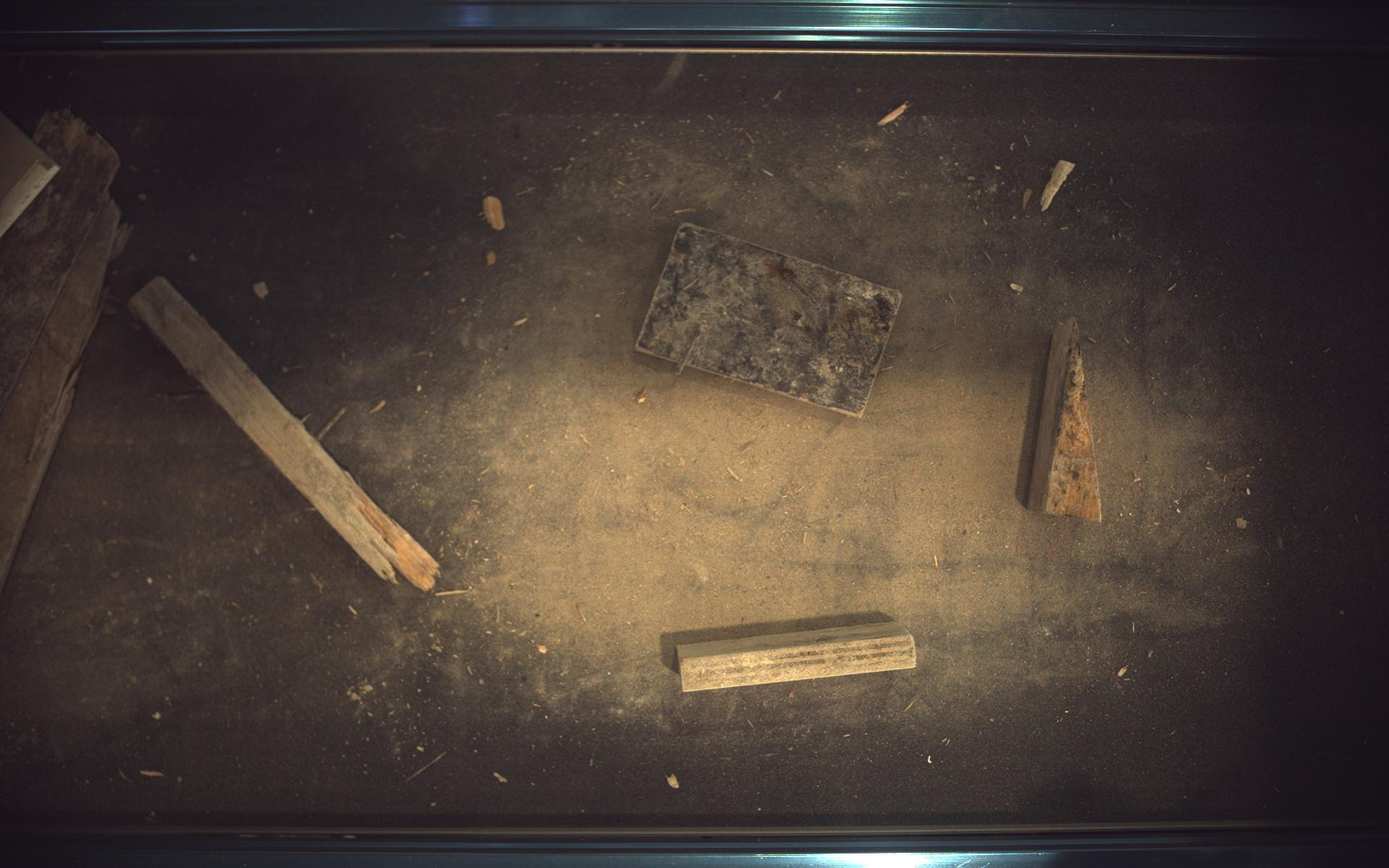wood: (637, 222, 903, 417), (678, 623, 918, 693), (1030, 317, 1105, 522)
